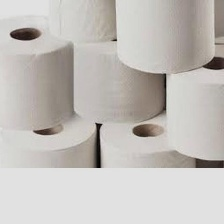tissue: (0, 10, 78, 132), (68, 34, 168, 126), (163, 31, 224, 164), (113, 0, 218, 76), (97, 110, 200, 167), (0, 110, 100, 167), (43, 0, 114, 46)
